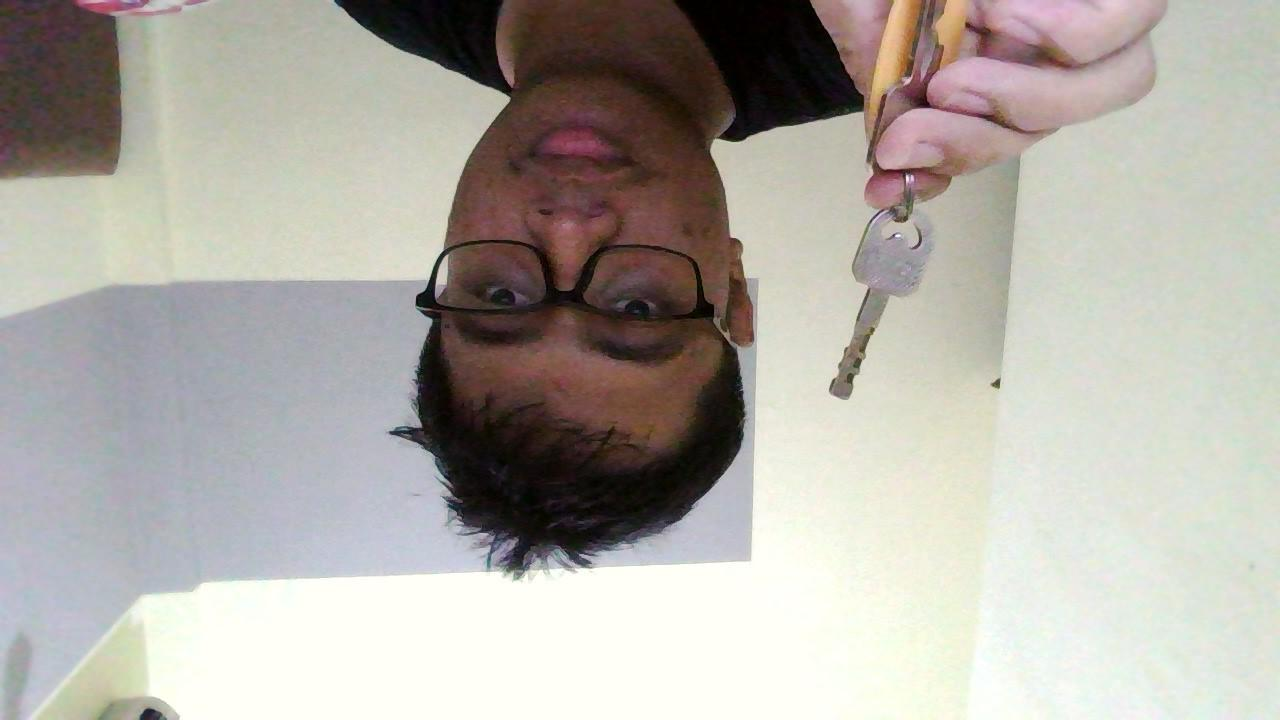keys: (818, 200, 945, 414)
